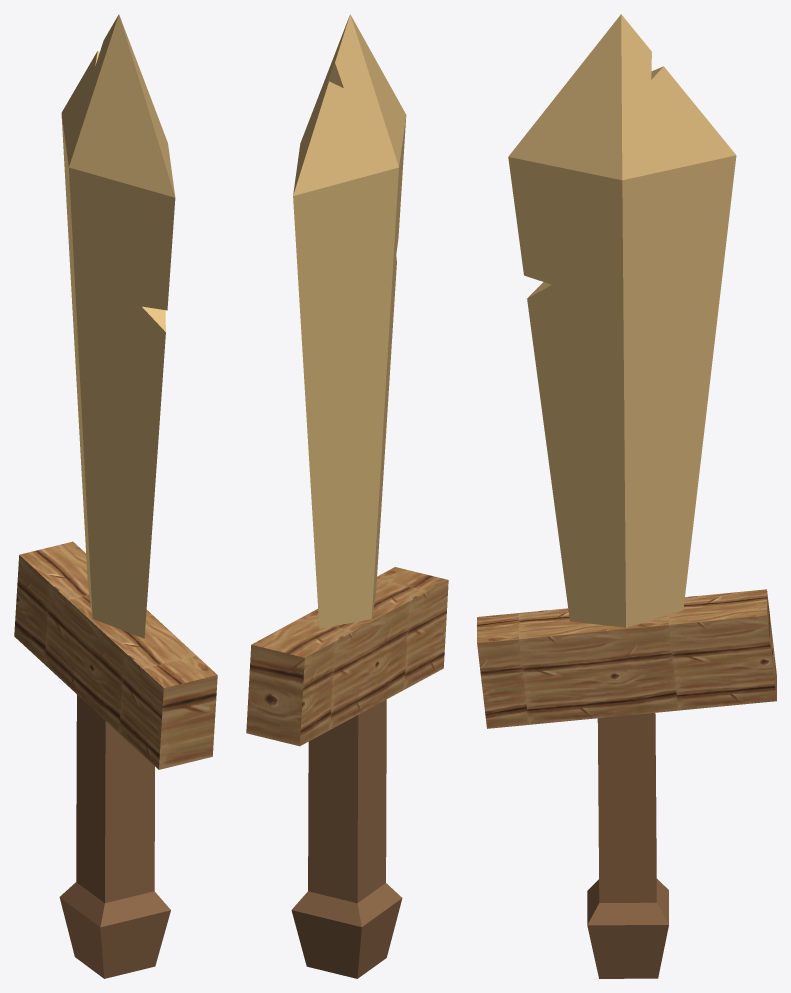
The model's file is меч дамми.fbx.
3 views of the same model, side by side, from view 1: azimuth 30°, elevation 25°; view 2: azimuth 150°, elevation 25°; view 3: azimuth 270°, elevation 25° (orthographic).
Visible parts, largest first — view 1: Куб.006; view 2: Куб.006; view 3: Куб.006.
Part boxes in pixels (box(x1,y1,x2,y2)): Куб.006: box(14, 14, 217, 978); Куб.006: box(246, 14, 448, 978); Куб.006: box(477, 14, 776, 978).
Bounding box in the file's own units: 45.36 × 415 × 118.
